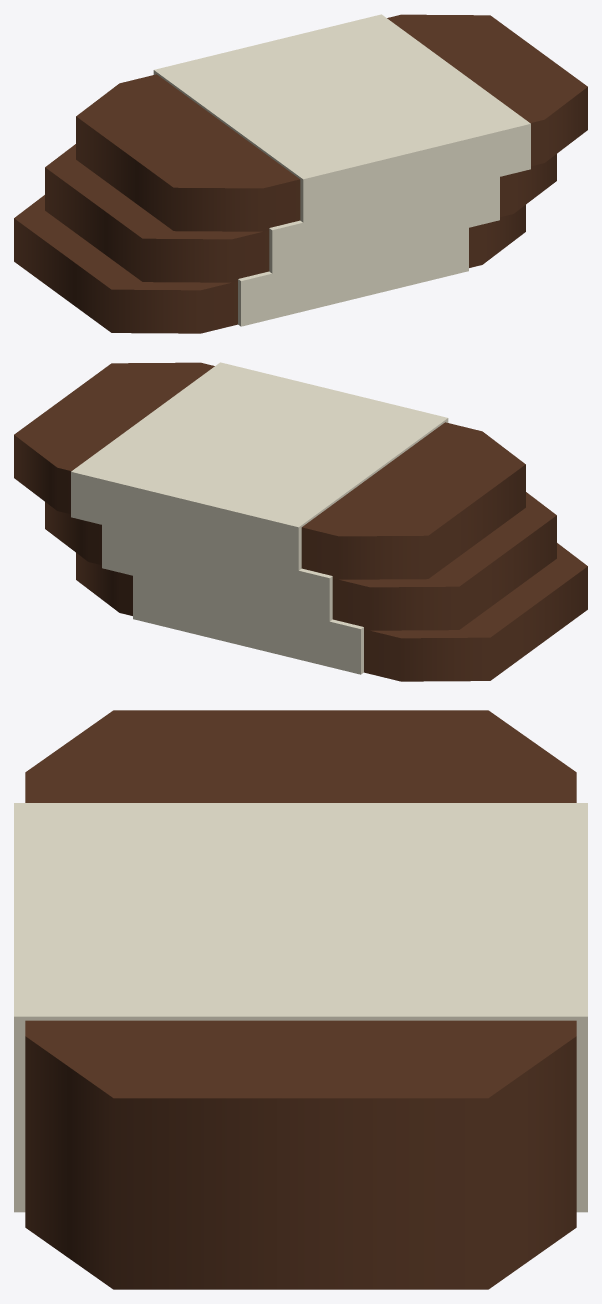
Rendered from food_chocolate.obj.
3 views of the same model, one above another, from view 1: azimuth 30°, elevation 25°; view 2: azimuth 150°, elevation 25°; view 3: azimuth 270°, elevation 25° (orthographic). The views are drawn at different scales.
Visible parts, largest first — view 1: part_025_paper, part_020_chocolate, part_000_chocolate, part_010_chocolate, part_005_paper, part_015_paper; view 2: part_025_paper, part_020_chocolate, part_000_chocolate, part_010_chocolate, part_005_paper, part_015_paper; view 3: part_020_chocolate, part_025_paper, part_000_chocolate, part_010_chocolate, part_005_paper, part_015_paper.
Part boxes in pixels (<box>): part_025_paper: <box>153,14,530,224</box>; part_020_chocolate: <box>76,14,587,231</box>; part_000_chocolate: <box>14,195,525,333</box>; part_010_chocolate: <box>45,144,556,282</box>; part_005_paper: <box>238,225,468,326</box>; part_015_paper: <box>269,177,499,275</box>; part_025_paper: <box>71,362,448,572</box>; part_020_chocolate: <box>14,362,525,579</box>; part_000_chocolate: <box>76,543,587,681</box>; part_010_chocolate: <box>45,492,556,630</box>; part_005_paper: <box>133,574,363,674</box>; part_015_paper: <box>102,523,332,623</box>; part_020_chocolate: <box>25,710,576,1181</box>; part_025_paper: <box>14,803,587,1103</box>; part_000_chocolate: <box>25,1173,576,1289</box>; part_010_chocolate: <box>25,1119,576,1235</box>; part_005_paper: <box>14,1158,587,1212</box>; part_015_paper: <box>14,1104,587,1157</box>.
Size of the model in its own units: 0.46 by 0.122 by 0.25.
